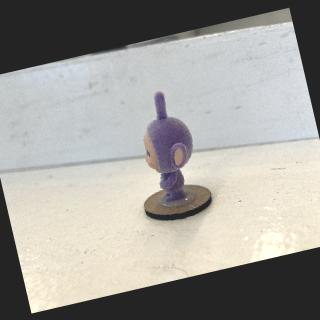teletubby: (143, 91, 192, 201)
